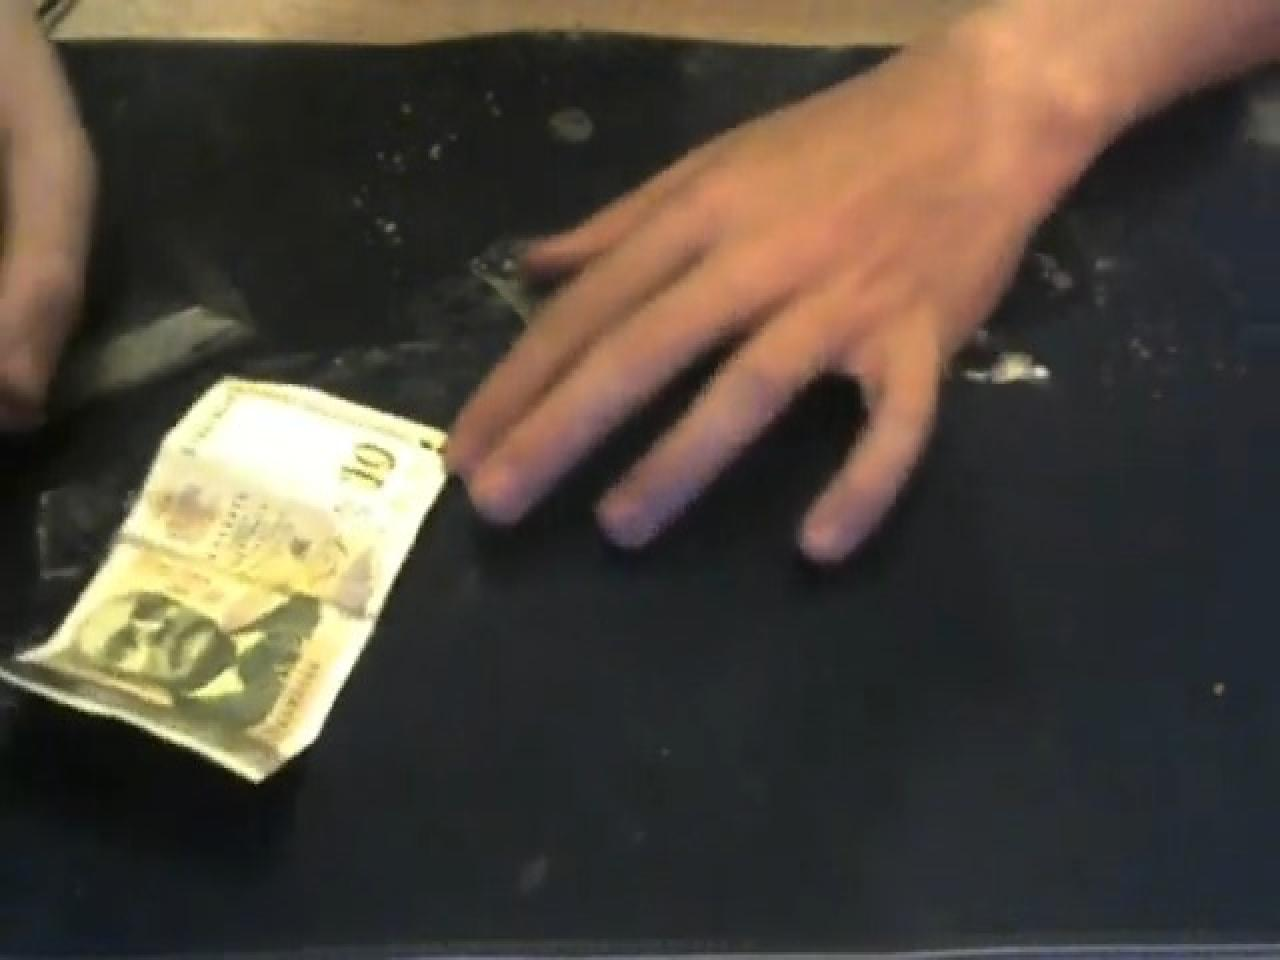10leva: (2, 379, 447, 787)
